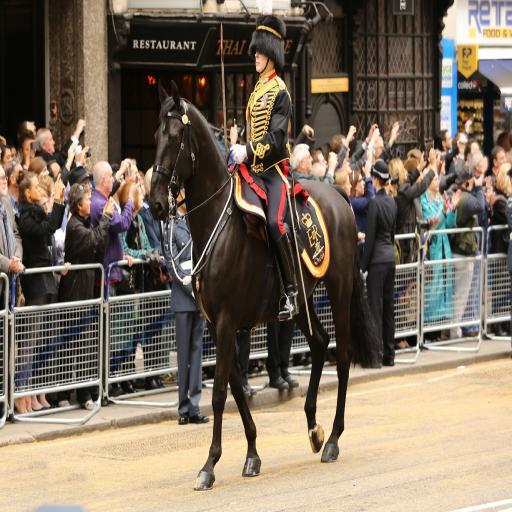Horse: (148, 79, 382, 490)
